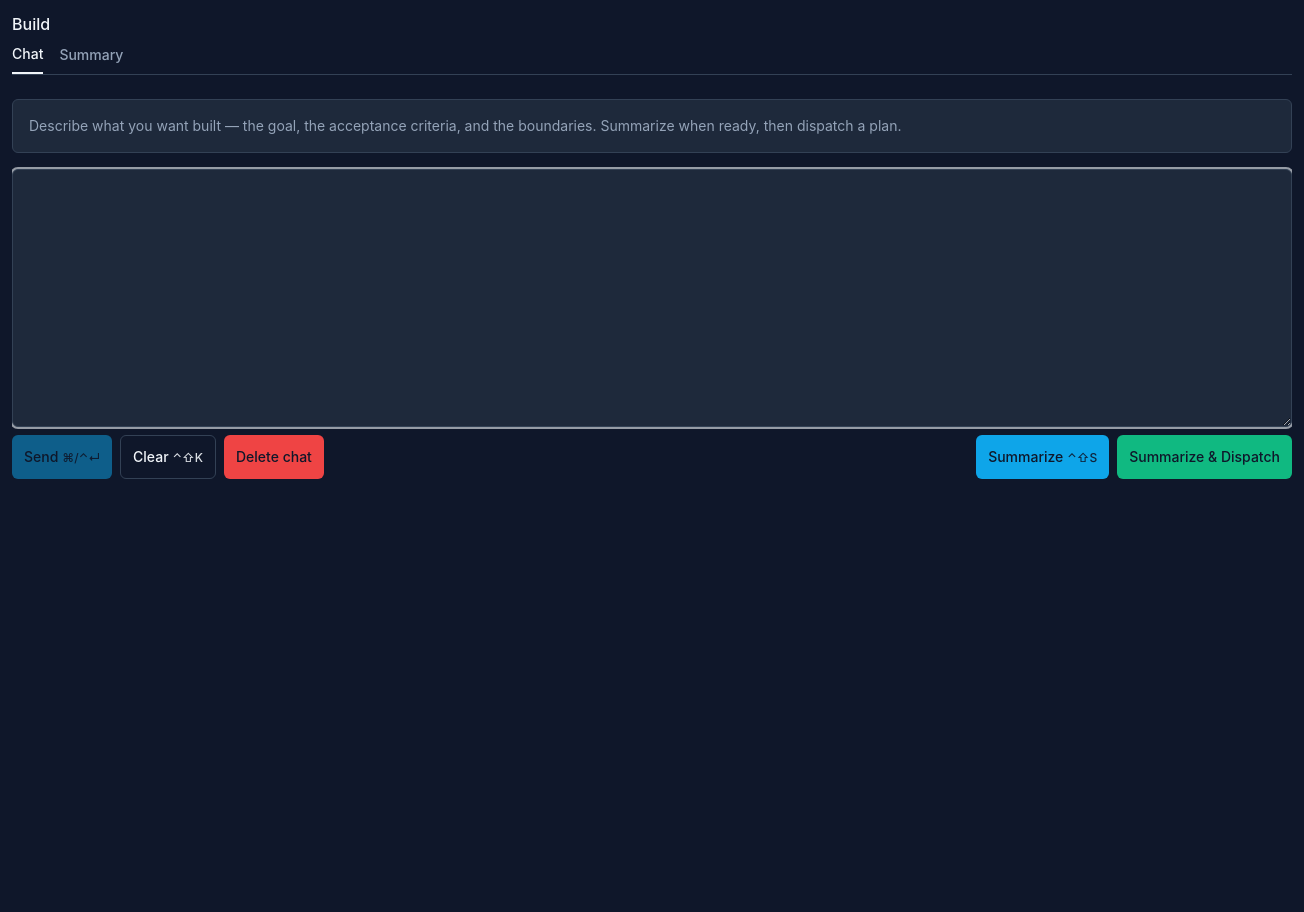
Test case: BuildChat › Roadmap item dispatch stamp › falls back to the raw roadmap item id when the project lookup itself fails
Click the button with test id "summarize-button" at (1043, 457), box [976,435,1109,479]
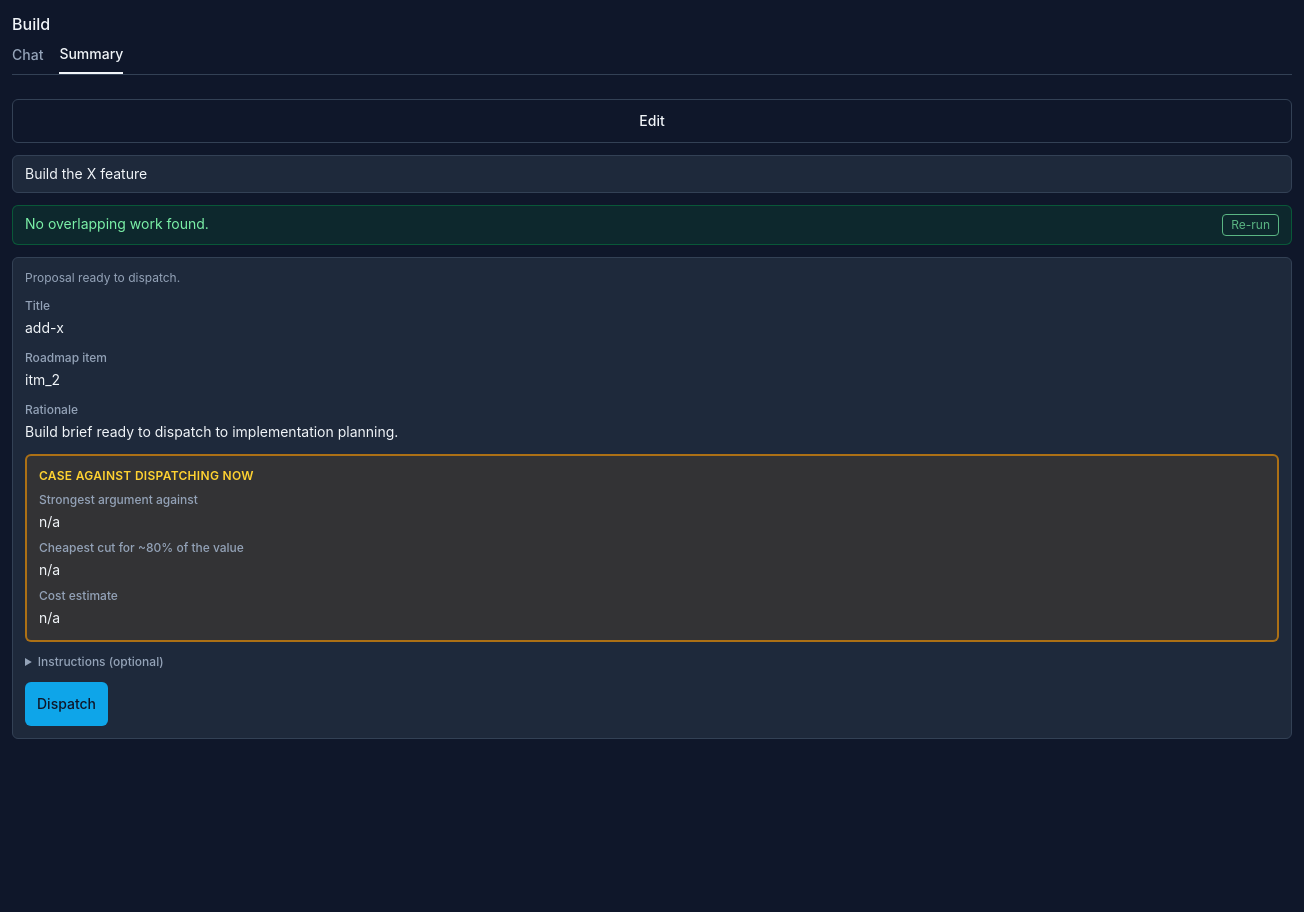
Expected: the text with test id "dispatch-proposal-roadmap-item" reads "itm_2", [25,371,60,388]
